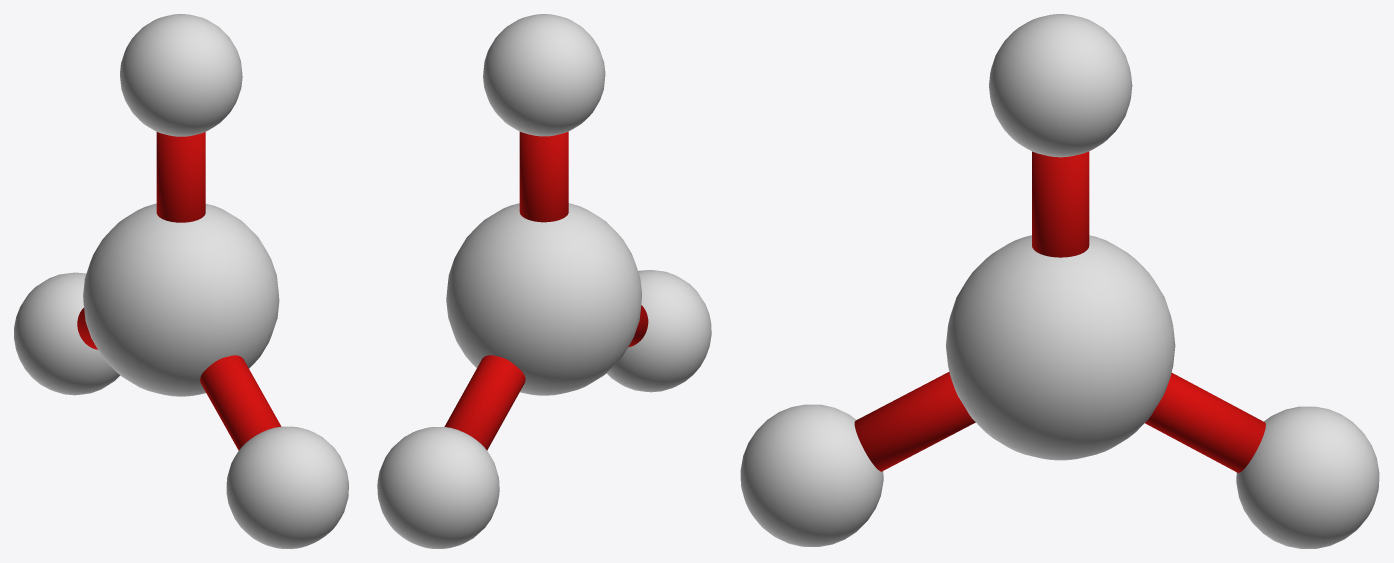
3 views of the same model, side by side, from view 1: azimuth 30°, elevation 25°; view 2: azimuth 150°, elevation 25°; view 3: azimuth 270°, elevation 25° (orthographic). The views are drawn at different scales.
Parts seen in each view (by area): view 1: Sphere, H.001, H.003, H.002, bond, bond.001, H; view 2: Sphere, H.002, H, H.001, bond, bond.002, H.003; view 3: Sphere, H.002, H.001, H.003, H, bond.001, bond.002, bond.
Part boxes in pixels (x1,y1,x2,y2): Sphere: (83, 203, 279, 396); H.001: (226, 426, 348, 548); H.003: (123, 16, 242, 136); H.002: (14, 272, 119, 395); bond: (156, 132, 205, 222); bond.001: (200, 355, 281, 450); H: (120, 14, 220, 120); Sphere: (446, 203, 641, 395); H.002: (377, 427, 499, 548); H: (483, 17, 600, 136); H.001: (606, 270, 711, 392); bond: (519, 131, 568, 222); bond.002: (444, 355, 525, 450); H.003: (513, 14, 605, 120); Sphere: (946, 235, 1175, 460); H.002: (1236, 406, 1379, 548); H.001: (740, 404, 883, 546); H.003: (989, 14, 1107, 157); H: (1042, 14, 1132, 157); bond.001: (854, 372, 975, 471); bond.002: (1145, 373, 1265, 472); bond: (1032, 151, 1089, 257).
Bounding box in the file's own units: 160 × 401 × 445.
